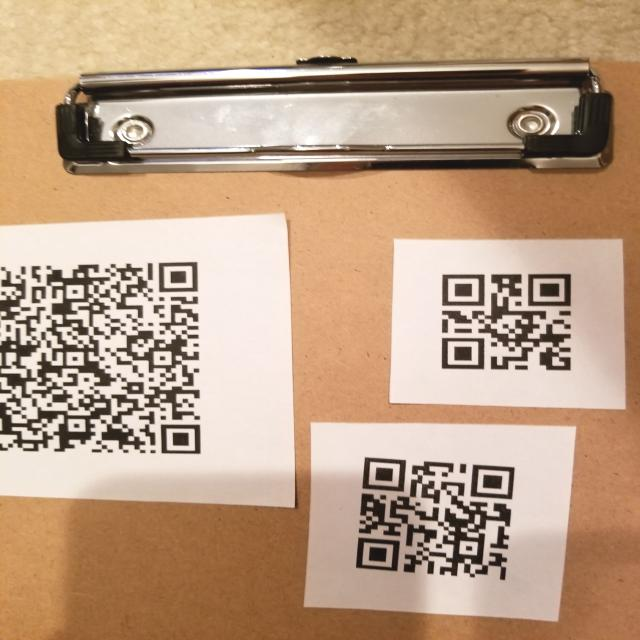QRCode: (4, 243, 215, 462), (344, 449, 522, 594), (424, 261, 585, 380)
